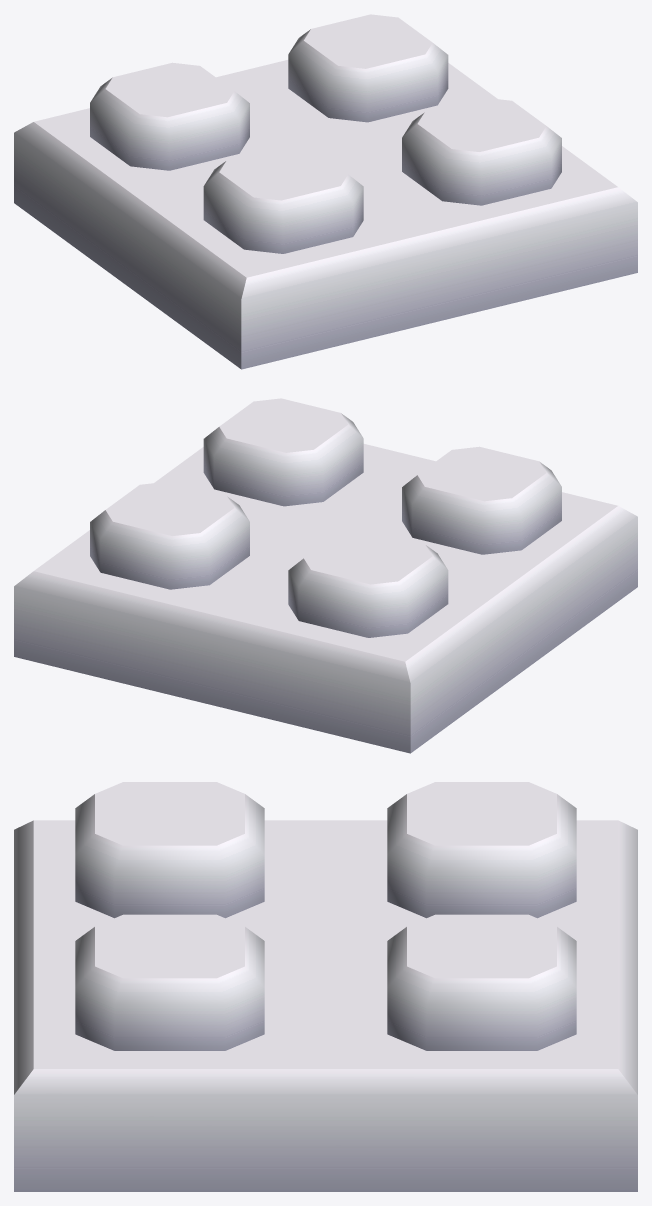
The model's file is bevel-hq-plate-2x2.glb.
3 views of the same model, one above another, from view 1: azimuth 30°, elevation 25°; view 2: azimuth 150°, elevation 25°; view 3: azimuth 270°, elevation 25° (orthographic). The views are drawn at different scales.
Parts seen in each view (by area): view 1: bevel-hq-plate-2x2; view 2: bevel-hq-plate-2x2; view 3: bevel-hq-plate-2x2.
Part boxes in pixels (x1=…): bevel-hq-plate-2x2: x1=14, y1=14, x2=637, y2=369; bevel-hq-plate-2x2: x1=14, y1=398, x2=637, y2=753; bevel-hq-plate-2x2: x1=14, y1=782, x2=637, y2=1191.
Bounding box in the file's own units: 0.159 × 0.05 × 0.158.
Materials: 1 (1 with a texture image).
